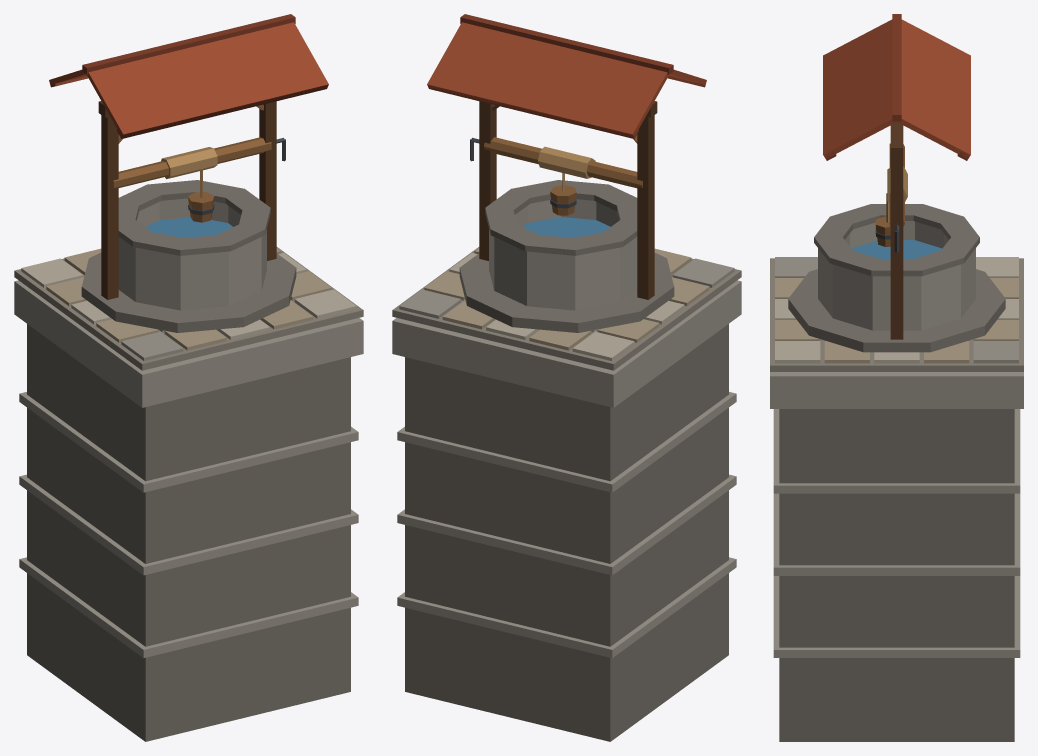
The model's file is decor_plaza_well.glb.
3 renders of one model, left to right at view 1: azimuth 30°, elevation 25°; view 2: azimuth 150°, elevation 25°; view 3: azimuth 270°, elevation 25°, orthographic.
Visible parts, largest first — view 1: decor_plaza_well; view 2: decor_plaza_well; view 3: decor_plaza_well.
Part boxes in pixels (x1,y1,x2,y2): decor_plaza_well: (14,14,363,741); decor_plaza_well: (392,14,741,741); decor_plaza_well: (770,14,1023,741).
Bounding box in the file's own units: 2.8 × 7.64 × 2.8.
